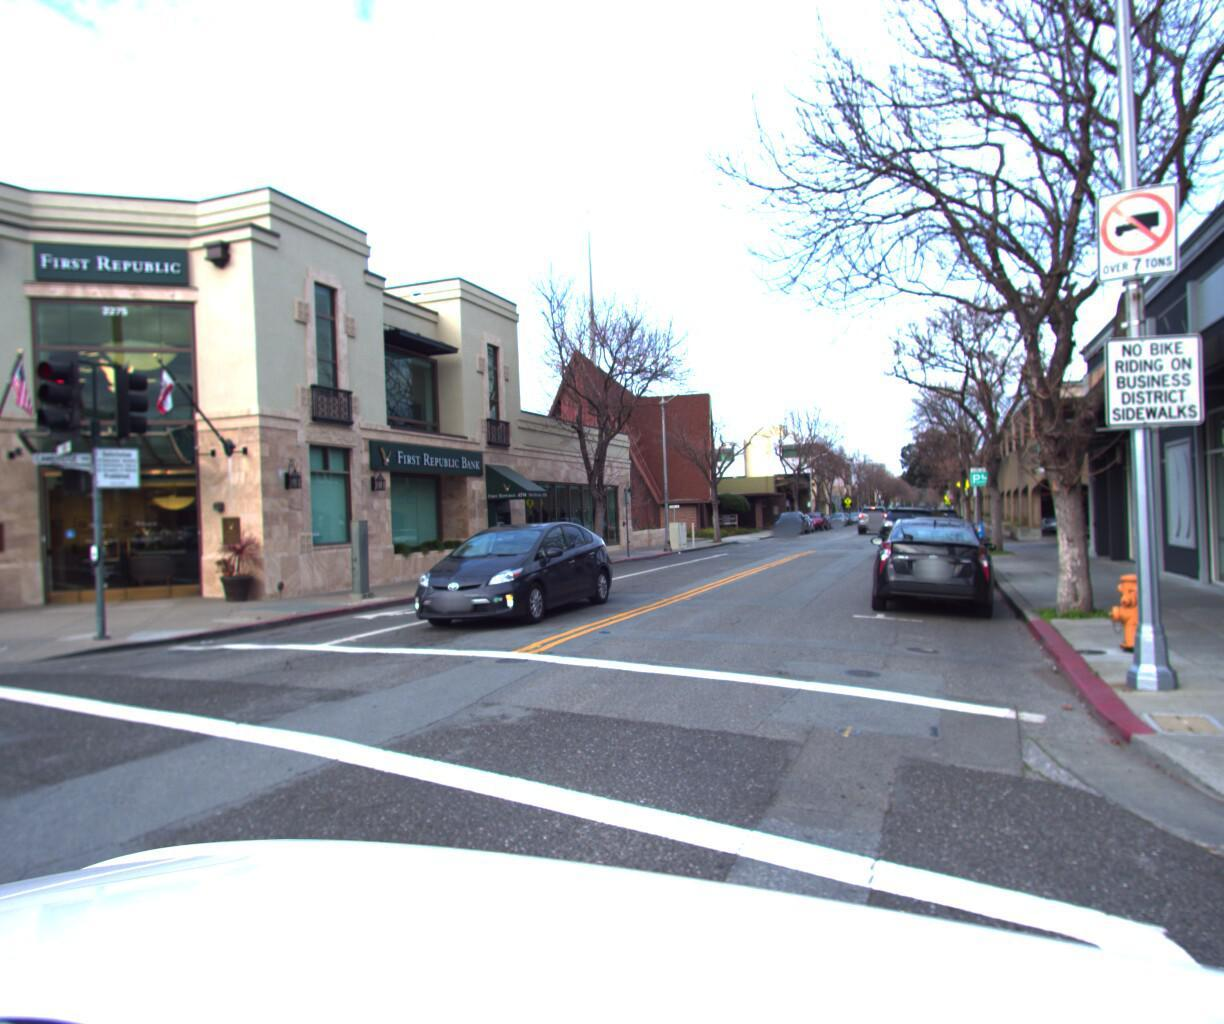car: (396, 508, 616, 630), (860, 506, 1004, 620), (883, 507, 990, 588), (867, 497, 960, 558), (1030, 495, 1135, 531), (918, 502, 963, 536), (772, 507, 814, 534), (856, 499, 892, 530), (796, 505, 833, 528), (825, 505, 852, 523)
